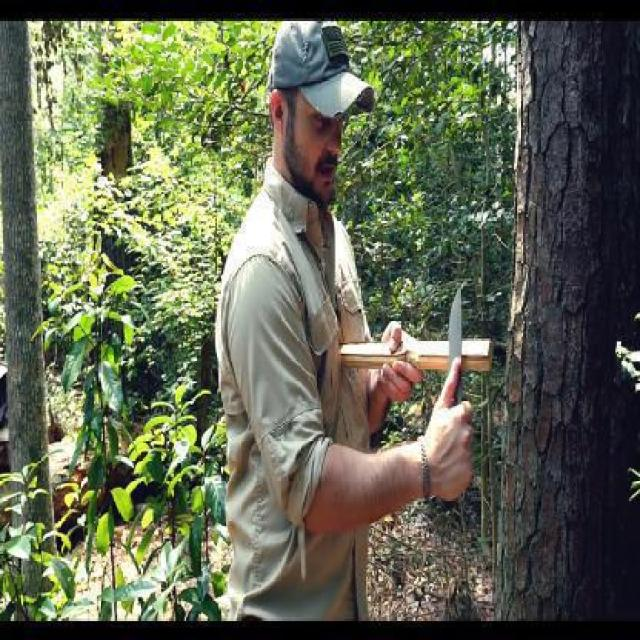knife: (432, 280, 478, 482)
